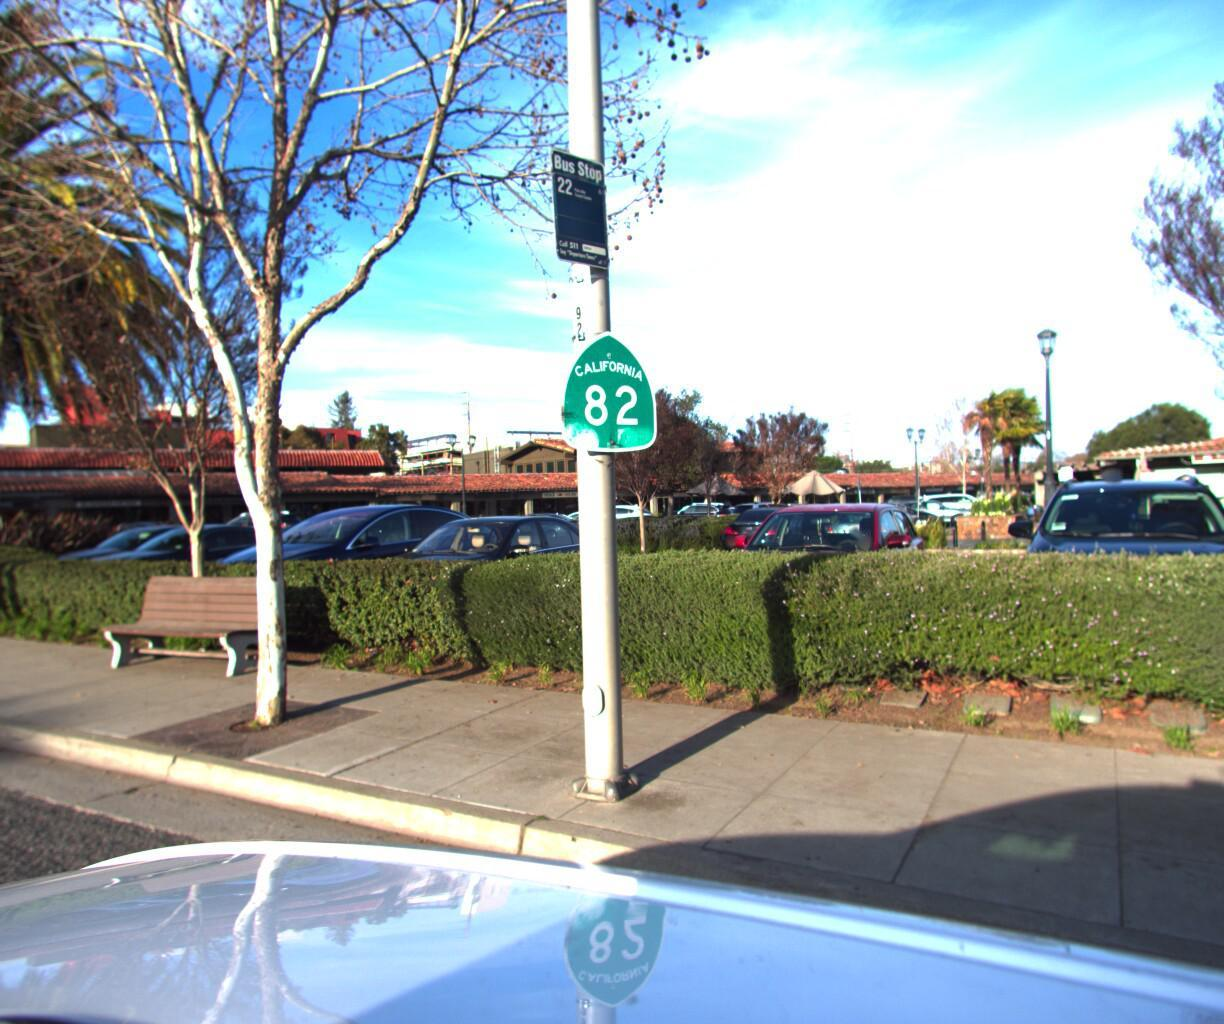car: (186, 499, 503, 647), (1032, 455, 1224, 671), (701, 497, 932, 677), (340, 509, 616, 646), (71, 520, 315, 618), (4, 521, 239, 610)
